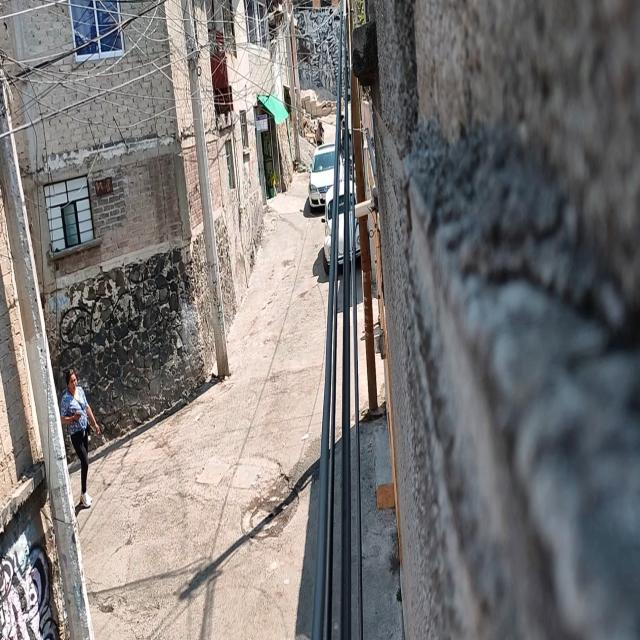adult: (59, 358, 101, 509)
